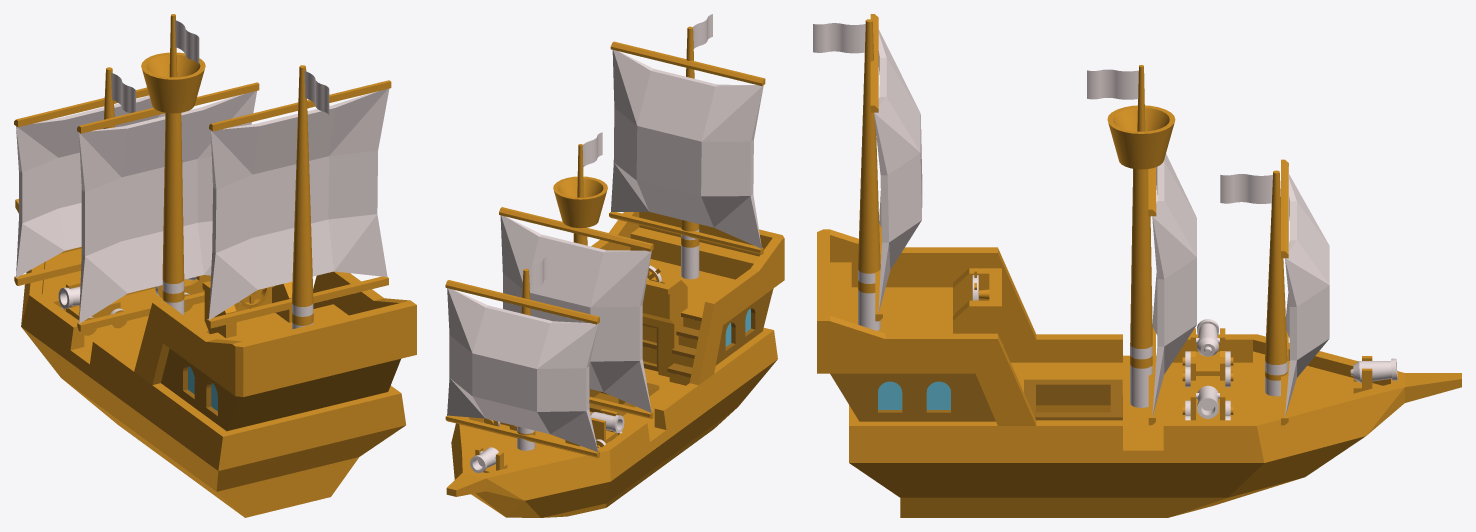
The model's file is ship.gltf.
3 views of the same model, side by side, from view 1: azimuth 30°, elevation 25°; view 2: azimuth 150°, elevation 25°; view 3: azimuth 270°, elevation 25° (orthographic). The views are drawn at different scales.
Visible parts, largest first — view 1: ship_dark_8angles, sail_back, sail_middle, sail_front, cannon_left; view 2: ship_dark_8angles, sail_back, sail_front, sail_middle, cannon_front001, cannon_left, cannon_left001; view 3: ship_dark_8angles, sail_back, sail_middle, sail_front, cannon_left, cannon_front001, cannon_left001.
Part boxes in pixels (<box>): ship_dark_8angles: <box>15,14,416,517</box>; sail_back: <box>207,80,391,328</box>; sail_middle: <box>77,82,259,331</box>; sail_front: <box>14,87,165,285</box>; cannon_left: <box>66,281,120,320</box>; ship_dark_8angles: <box>446,14,784,517</box>; sail_back: <box>609,41,765,254</box>; sail_front: <box>445,280,599,457</box>; sail_middle: <box>499,207,653,418</box>; cannon_front001: <box>470,447,498,473</box>; cannon_left: <box>591,408,617,443</box>; cannon_left001: <box>590,412,624,432</box>; ship_dark_8angles: <box>813,19,1461,517</box>; sail_back: <box>870,14,922,321</box>; sail_middle: <box>1148,154,1196,425</box>; sail_front: <box>1281,159,1329,425</box>; cannon_left: <box>1190,328,1225,380</box>; cannon_front001: <box>1350,358,1397,382</box>; cannon_left001: <box>1197,319,1218,356</box>.
Bounding box in the file's own units: 2.85 × 6.55 × 8.1.
